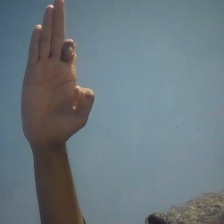F: (17, 1, 98, 146)
